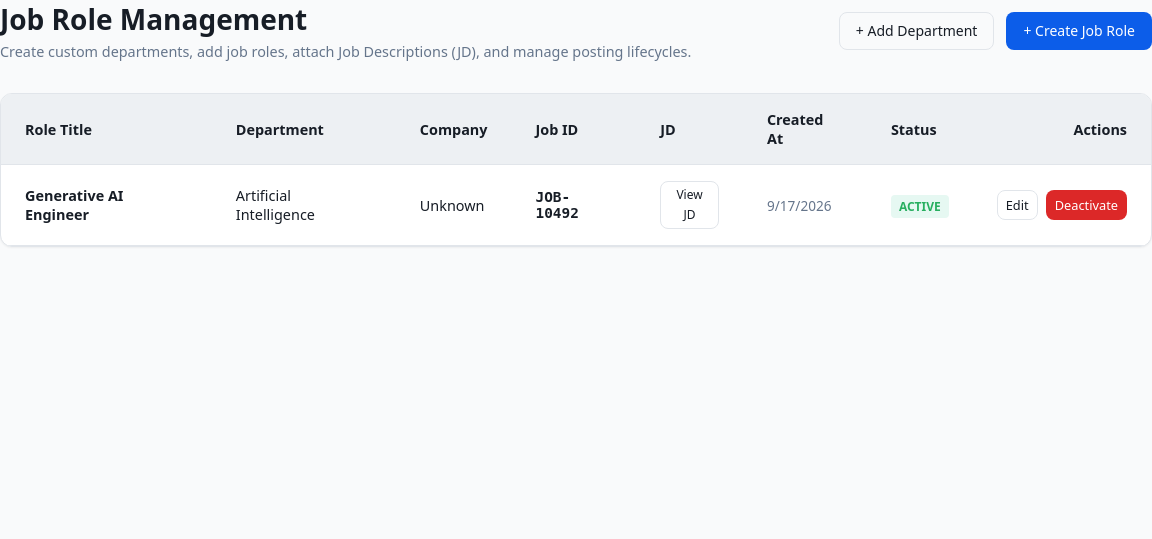
Test: Recruiter Job ID Creation & Table Display › displays Job ID column in table and requires Job ID in Create Role modal with red asterisk
Expected: the column heading "Job ID" is shown, [512,94,636,164]
Expected: the text "JOB-10492" is shown, [512,164,636,246]
Note: Open Create Modal
Click the button "+ Create Job Role".
click(1079, 30)  # box [1006,12,1151,50]
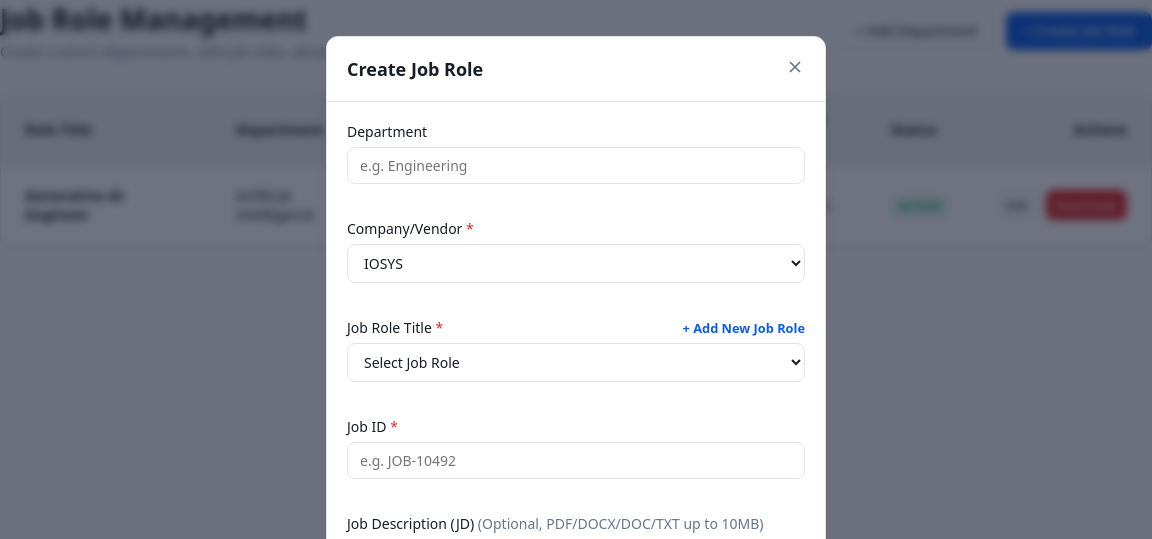
Expected: the heading "Create Job Role" is shown, [347,57,483,81]
Expected: the field labelled "Job ID *" is shown, [347,442,805,479]
Type "Engineering" into the field labelled "Department".
click(576, 166); type("Engineering")  # box [347,147,805,184]
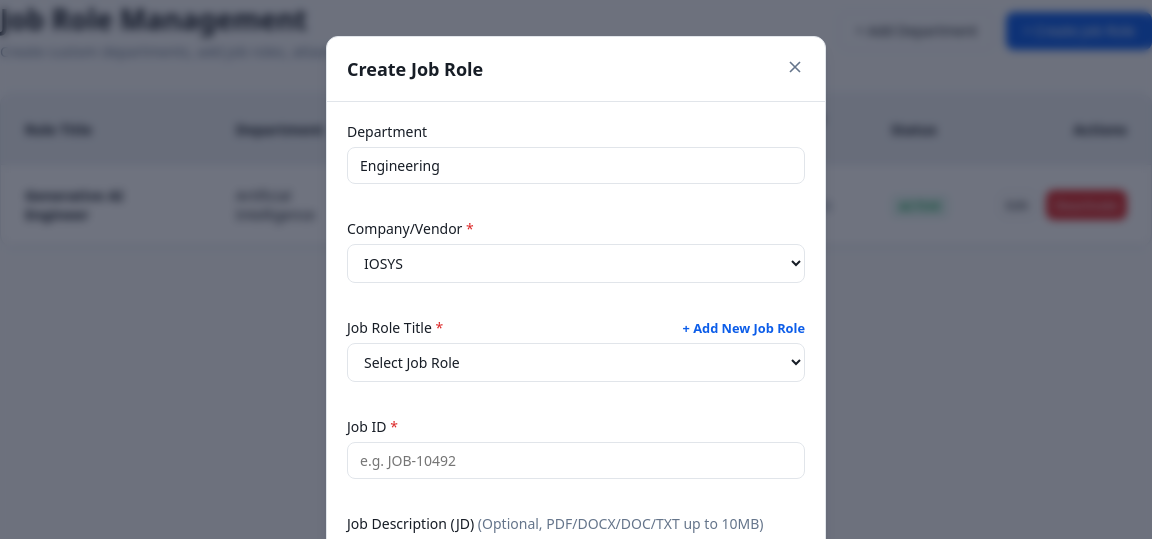
Select "Generative AI Engineer" in the dropdown labelled "Job Role Title *" at [576, 362], box [347,343,805,382]
(page scrolled)
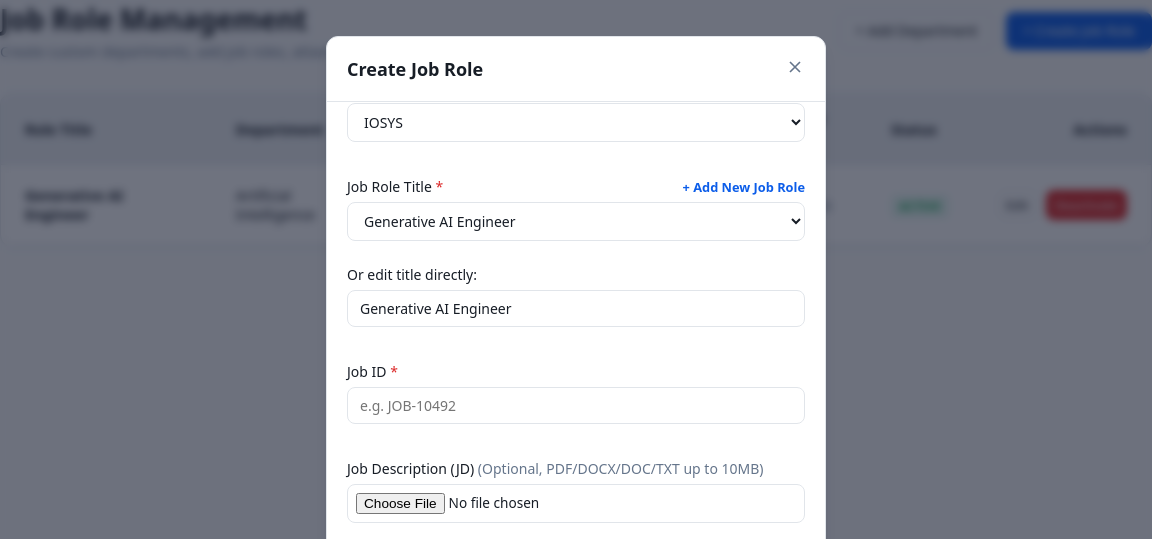
Submit the text "Create Role"
(page scrolled)
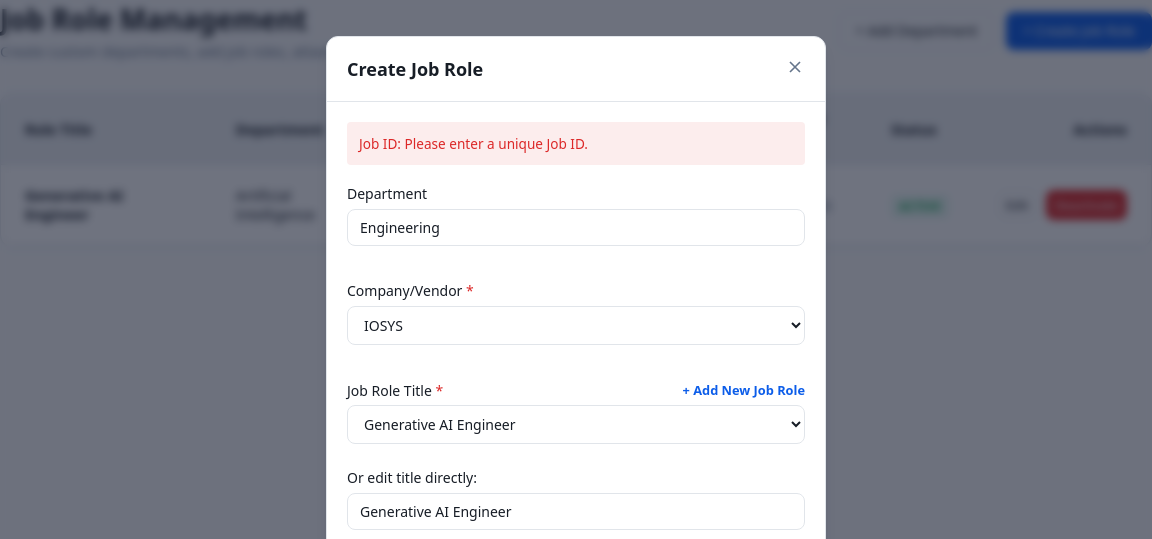
Expected: the text "Job ID: Please enter a unique Job ID." is shown, [347,122,805,165]
